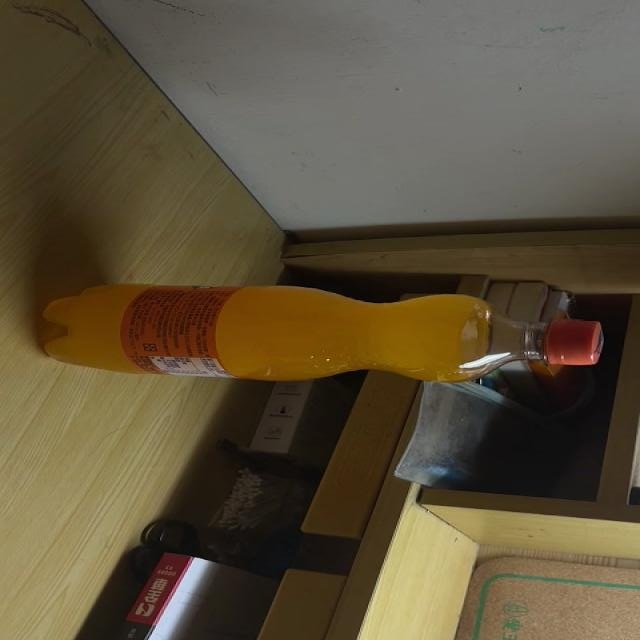Fanta: (39, 282, 604, 381)
